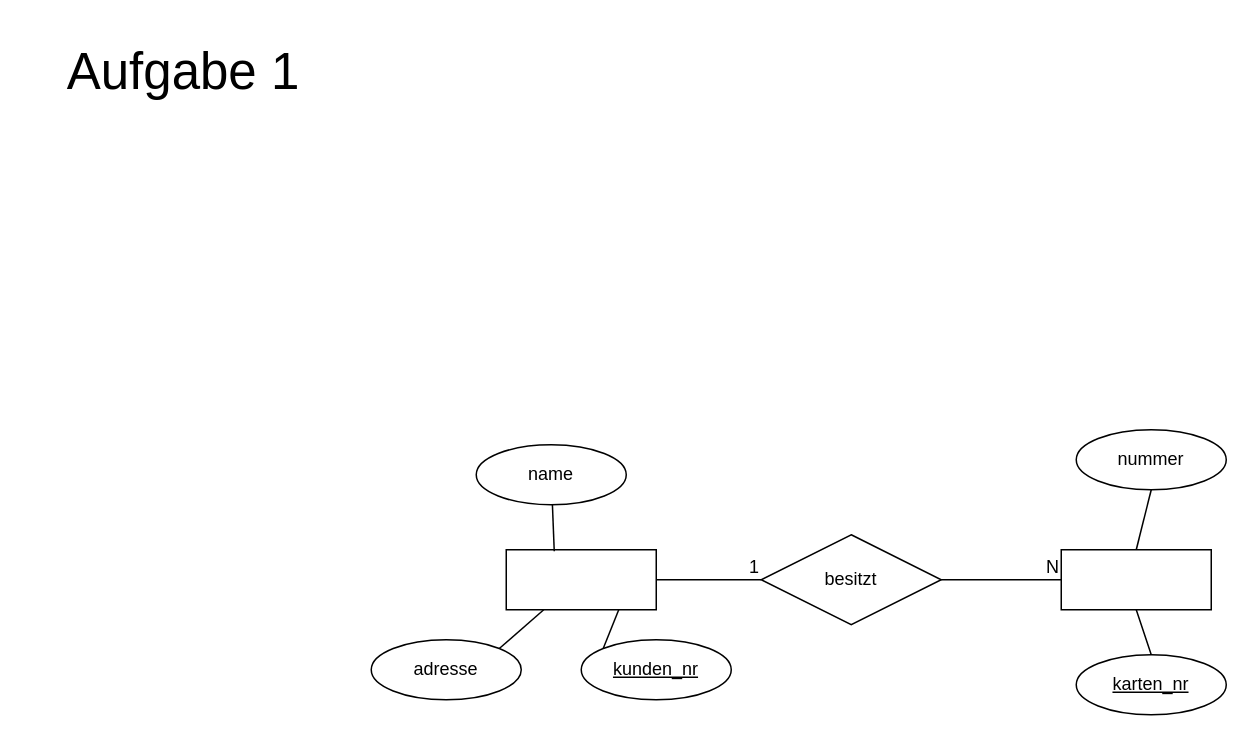
The diagram is 1253 pixels wide and 741 high, and some of its shapes have lost their labels. Each missing label, with the centre of its shape:
"Kreditkarte" goes at [1135,579].
"Kunde" goes at [580,579].
